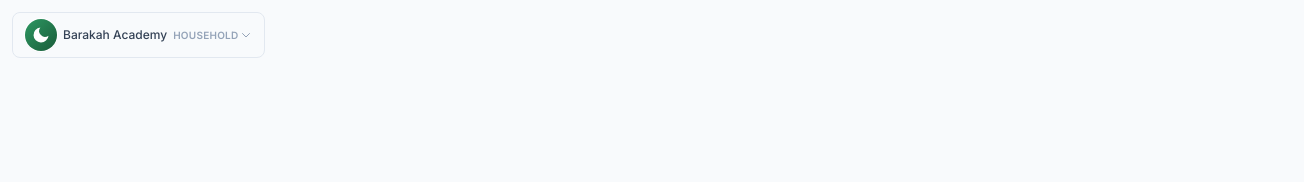
Test: HouseholdSwitcher › marks the current household as active
Click the button with aria-label "switch household" at (139, 35), box [12,12,266,58]
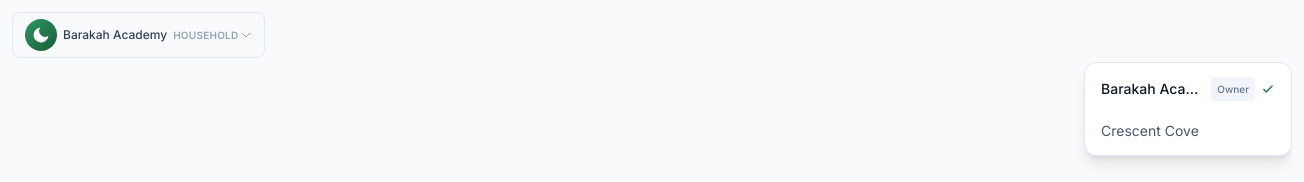
Check: the option "Barakah Academy Owner" is shown, box [1085,67,1291,111]
